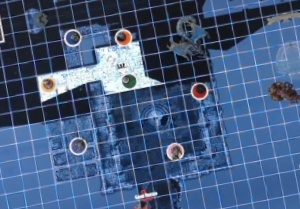blue: (58, 23, 85, 52)
green: (117, 70, 145, 94)
orange: (111, 25, 135, 47)
pink: (161, 138, 189, 164)
red: (186, 77, 209, 102)
violet: (66, 135, 89, 159)
yellow: (37, 73, 57, 94)
